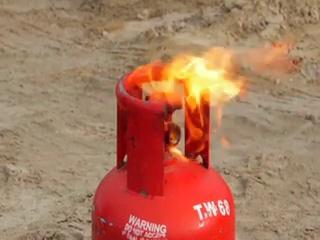Fire: (130, 14, 280, 172)
